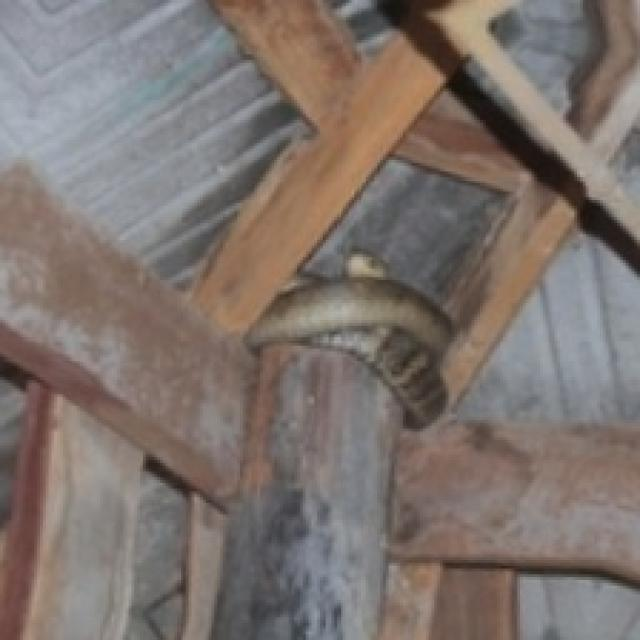king cobra: (394, 234, 637, 560), (246, 251, 449, 426), (517, 574, 637, 637)
